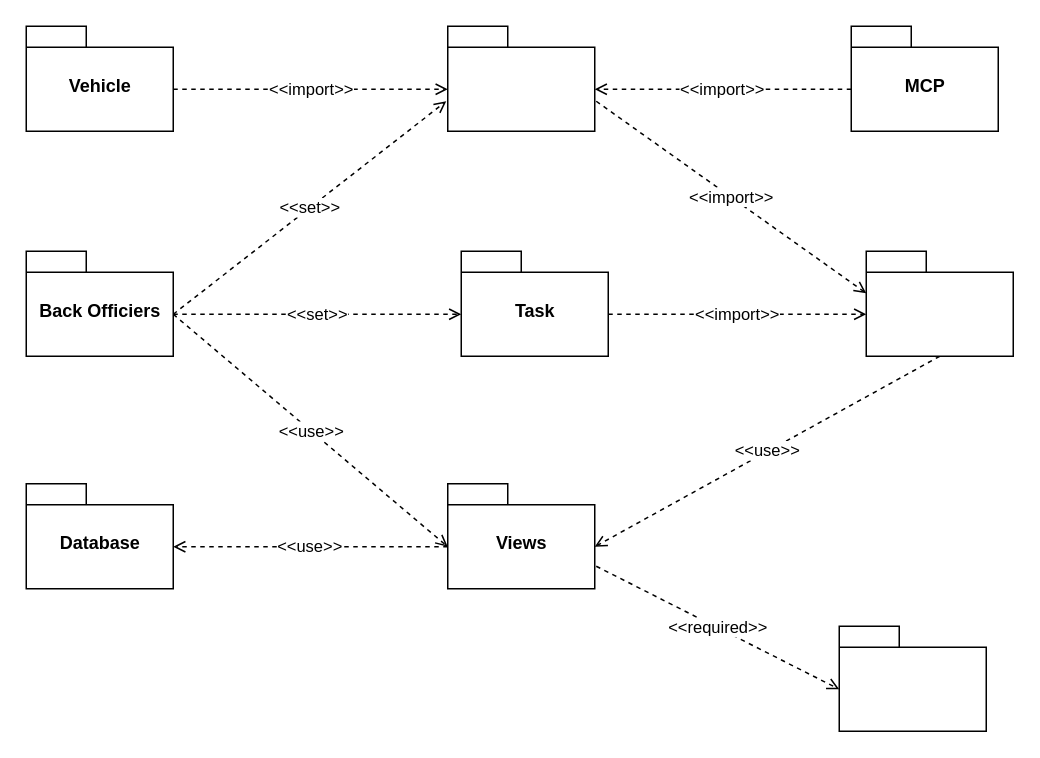
The diagram is 1040 pixels wide and 758 high, and some of its shapes have lost their labels. Each missing label, with the centre of its shape:
"Authentication System" belongs at [912,678].
"Route" belongs at [520,78].
"Staff" belongs at [939,303].
